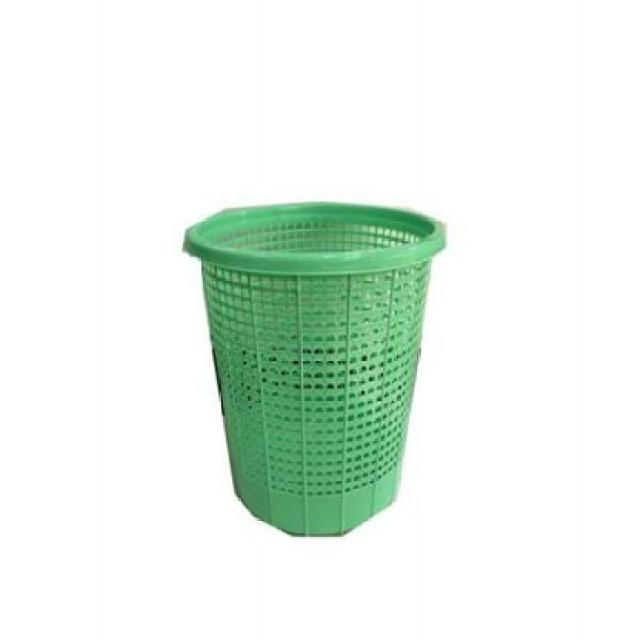dustbin: (178, 197, 451, 545)
